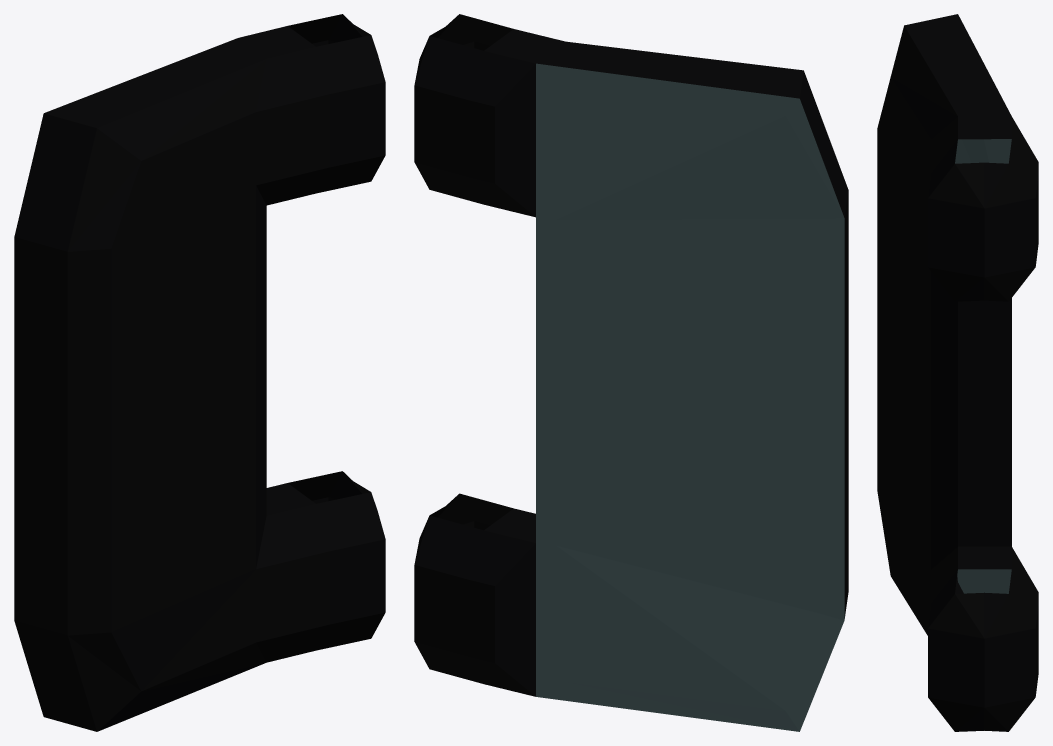
File: xeTai_Guong.obj
3 views of the same model, side by side, from view 1: azimuth 30°, elevation 25°; view 2: azimuth 150°, elevation 25°; view 3: azimuth 270°, elevation 25° (orthographic). The views are drawn at different scales.
Parts seen in each view (by area): view 1: Truck_backmirror.L.001; view 2: Truck_backmirror.L.001; view 3: Truck_backmirror.L.001.
Part boxes in pixels (box(x1,y1,x2,y2)): Truck_backmirror.L.001: box(14, 14, 385, 731); Truck_backmirror.L.001: box(414, 14, 848, 731); Truck_backmirror.L.001: box(877, 14, 1038, 731).
Bounding box in the file's own units: 0.2194 × 0.3294 × 0.0849.
